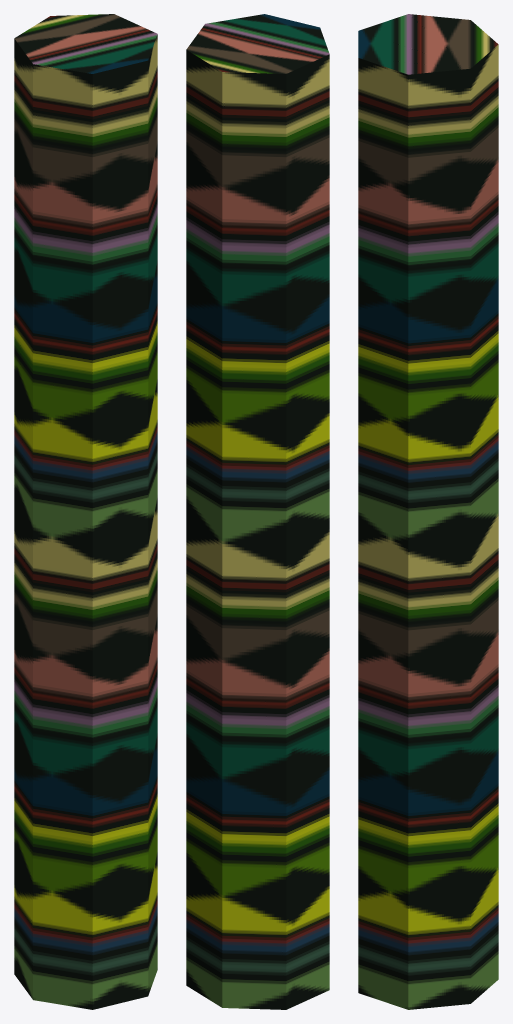
Rendered from PosteParede.fbx.
3 views of the same model, side by side, from view 1: azimuth 30°, elevation 25°; view 2: azimuth 150°, elevation 25°; view 3: azimuth 270°, elevation 25° (orthographic).
Parts seen in each view (by area): view 1: Cylinder; view 2: Cylinder; view 3: Cylinder.
Boxes of the visible parts, x1,y1,x2,y2 form: Cylinder: (14,14,157,1009); Cylinder: (186,14,329,1009); Cylinder: (358,14,498,1009).
Size of the model in its own units: 43.48 by 312 by 42.39.
